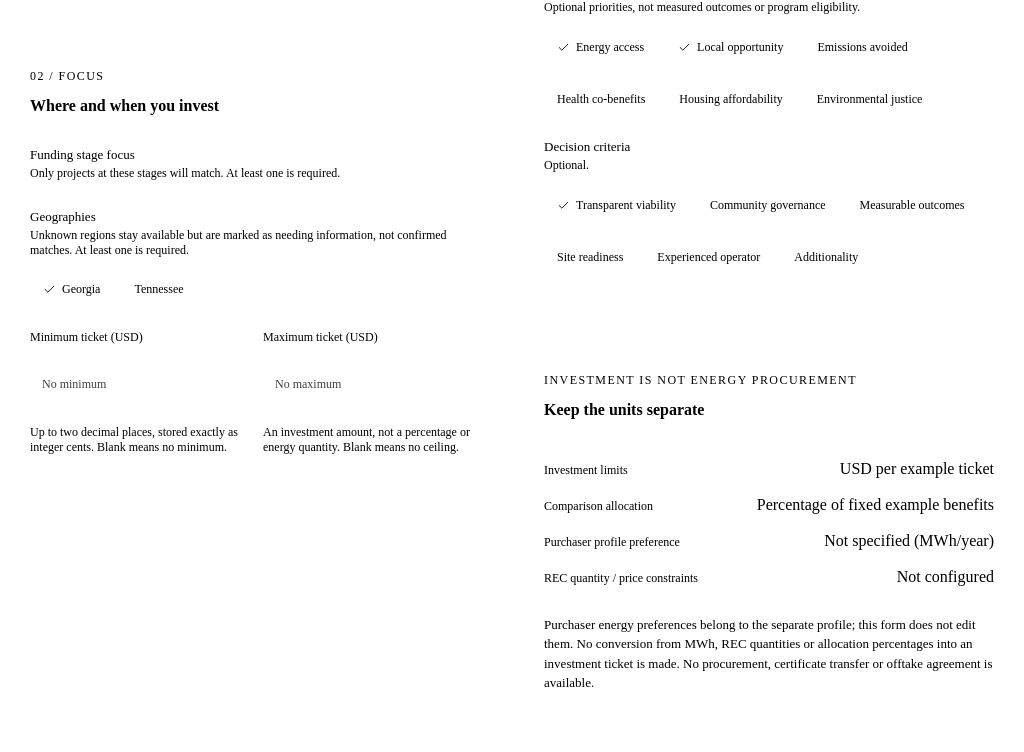
Test case: MandateView › rejects a reversed ticket range and does not persist or complete
(page scrolled)
Type "5000" into the field labelled "Minimum ticket" at coordinates (150, 384), box left=30, top=352, right=271, bottom=418
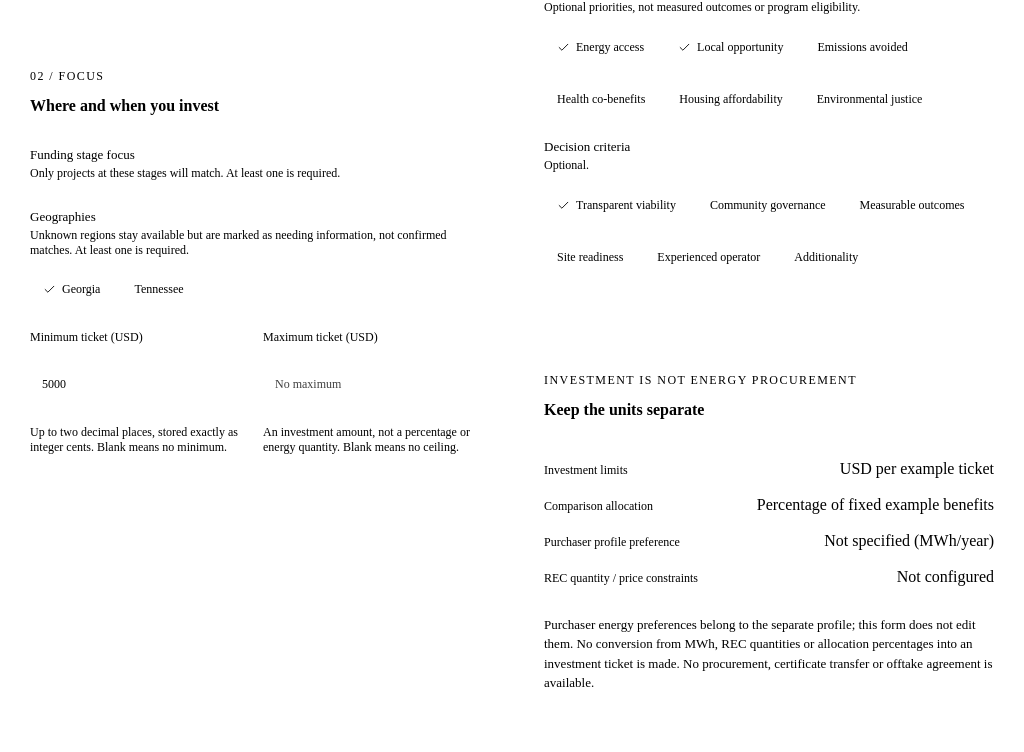
Type "100" into the field labelled "Maximum ticket" at coordinates (384, 384), box left=263, top=352, right=504, bottom=418
(page scrolled)
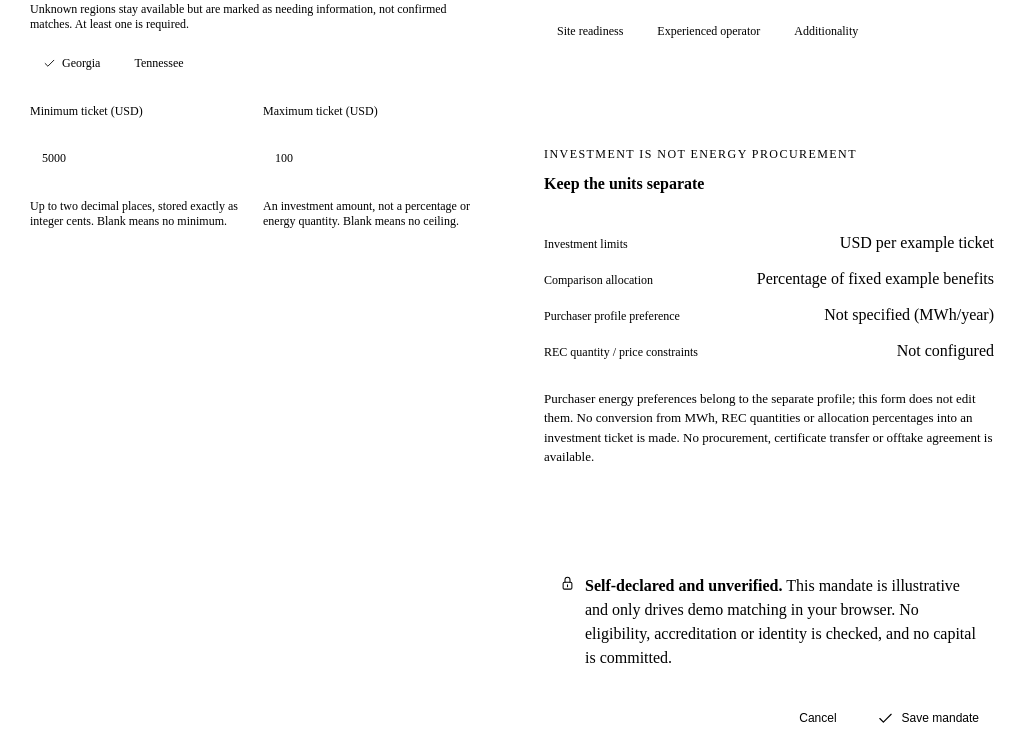
Click the button "Save mandate" at coordinates (928, 718), box left=862, top=700, right=994, bottom=738
(page scrolled)
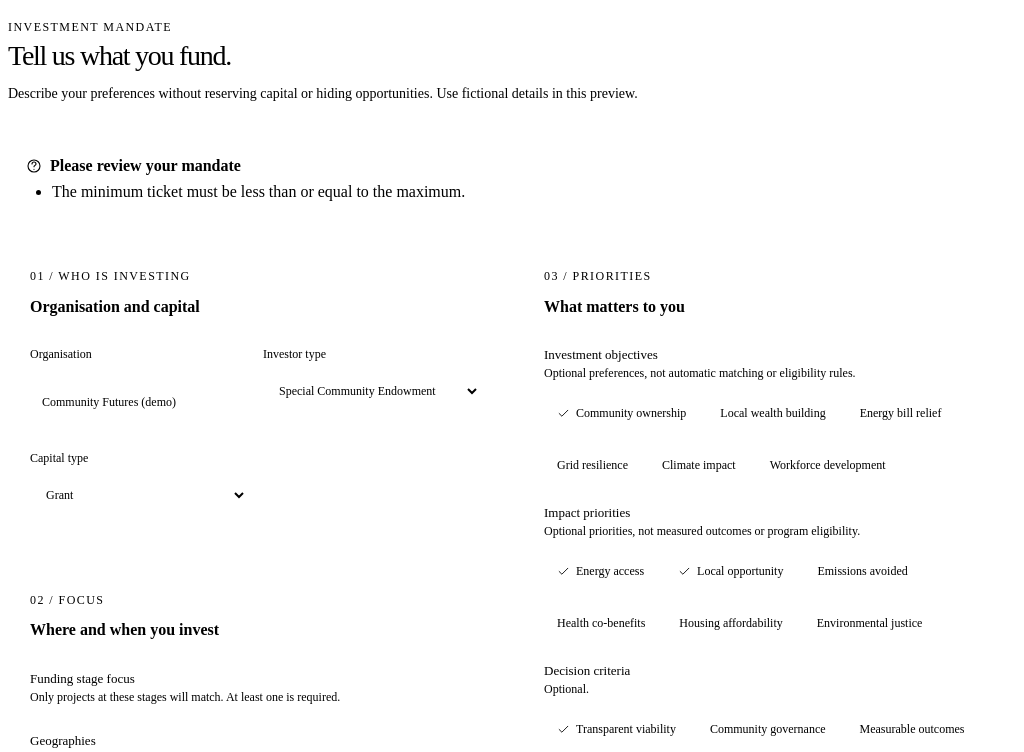
Expected: the message shows "less than or equal", left=52, top=184, right=465, bottom=200
